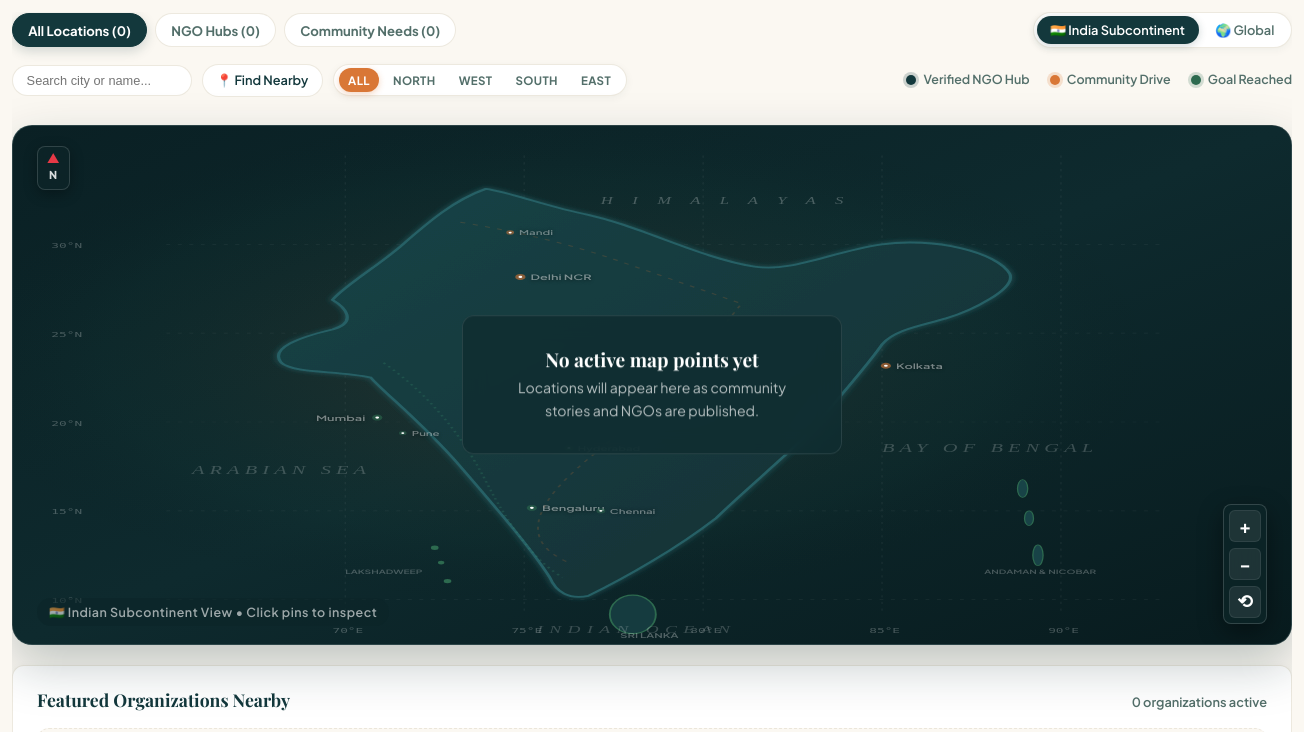
Feature 14: Maps and Real MongoDB NGO Coordinates › MapComponent shows proper empty state when 0 NGOs exist
Expected: the heading "No active map points yet" is shown, [545,346,759,372]
# Switch to NGO Hubs tab
Click the button "NGO Hubs (0)" at (216, 30), box [155,13,276,47]
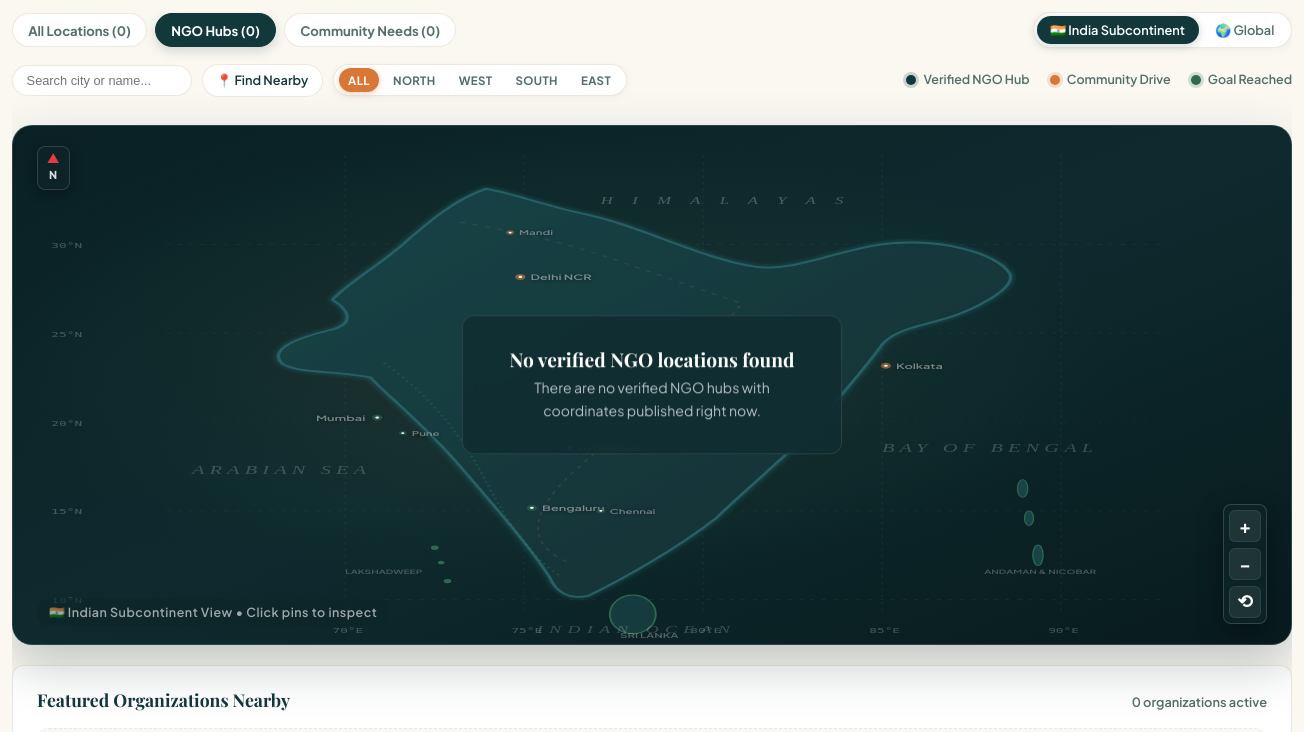
Expected: the heading "No verified NGO locations found" is shown, [503,348,801,370]
Expected: the text "There are no verified NGO hubs with coordinates published right now" is shown, [534,378,770,419]
